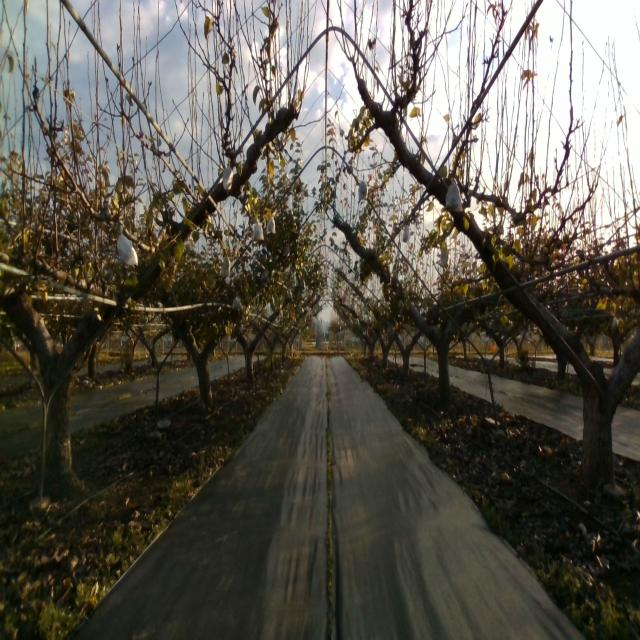pearbags: (116, 224, 138, 269), (441, 177, 463, 213), (222, 158, 234, 190), (252, 219, 264, 241), (358, 175, 368, 201)
